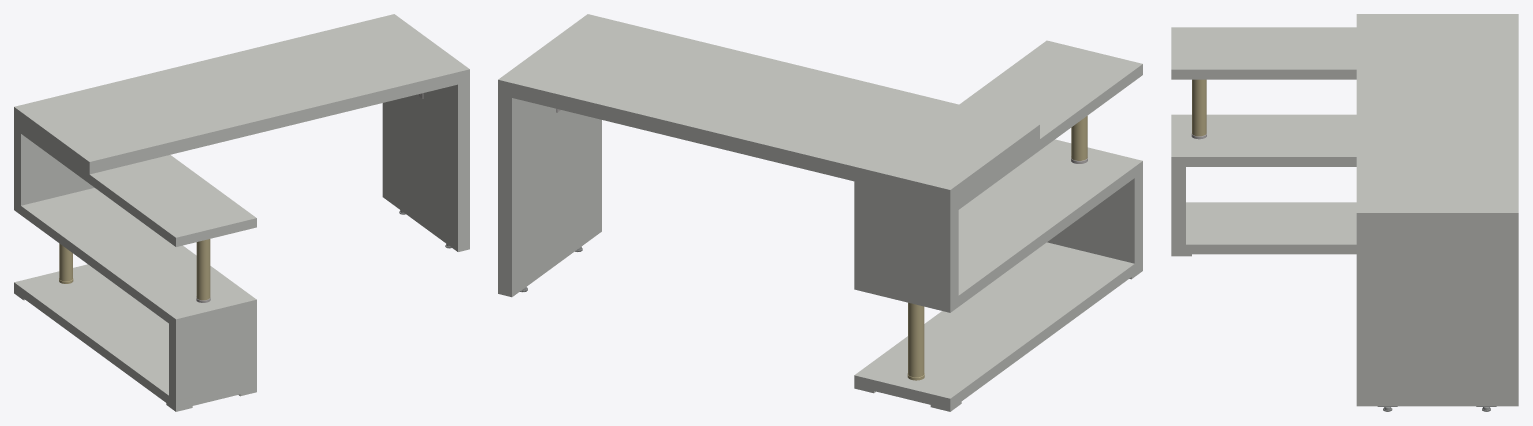
The picture shows the model from 3 angles, left to right: view 1: azimuth 30°, elevation 25°; view 2: azimuth 150°, elevation 25°; view 3: azimuth 270°, elevation 25°; orthographic projection. The views are drawn at different scales.
Parts seen in each view (by area): view 1: Cube; view 2: Cube; view 3: Cube.
Boxes of the visible parts, box(x1,y1,x2,y2) form: Cube: box(14, 14, 469, 411); Cube: box(498, 14, 1142, 411); Cube: box(1171, 14, 1518, 411).
Size of the model in its own units: 1.6 by 0.75 by 1.18.
1 material, 1 textured.
